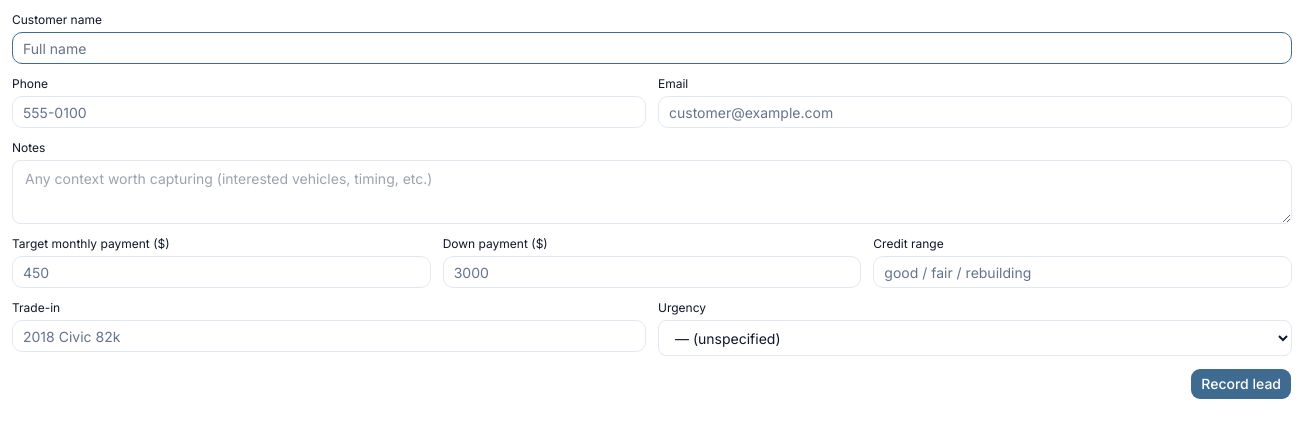
Scenario: LeadIntakeForm › surfaces a referral 404 as 'Referring customer not found'
Type "Frank" into the field with test id "lead-intake-referral-name".
click(652, 48); type("Frank")  # box [12,32,1292,64]
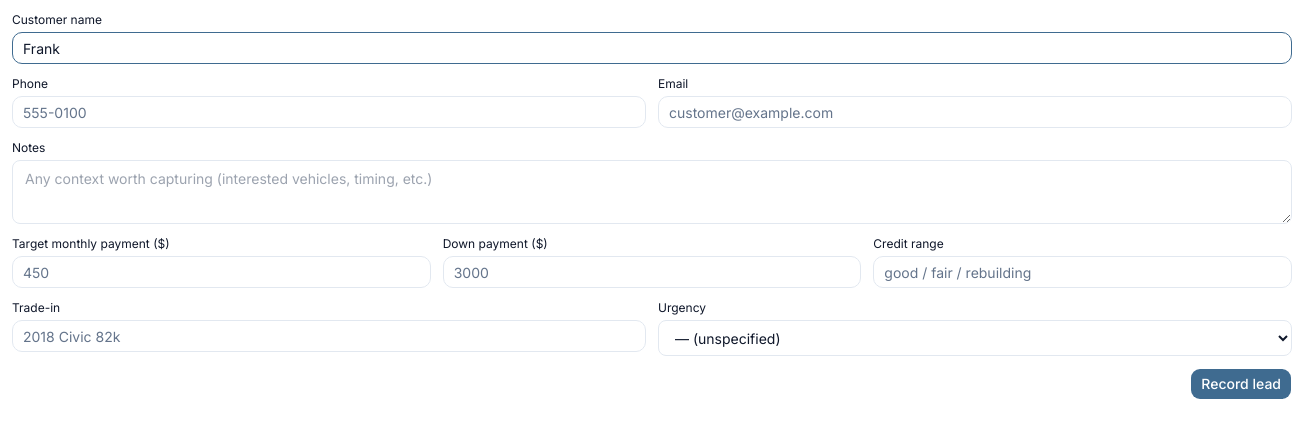
Click the button with test id "lead-intake-referral-submit".
click(1241, 384)  # box [1190,368,1292,400]
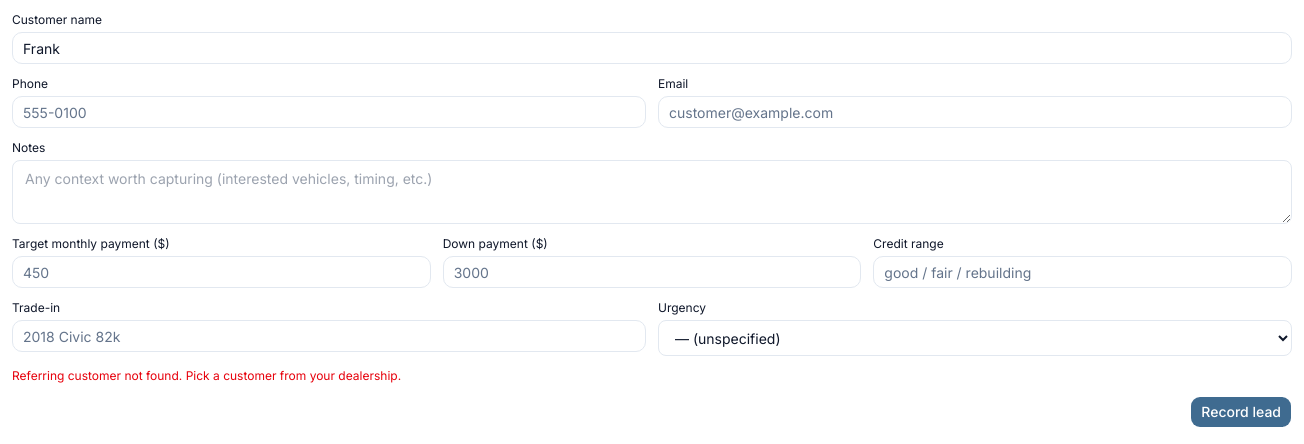
Expected: the message with test id "lead-intake-referral-error" shows "Referring customer not found", [12,368,401,383]
